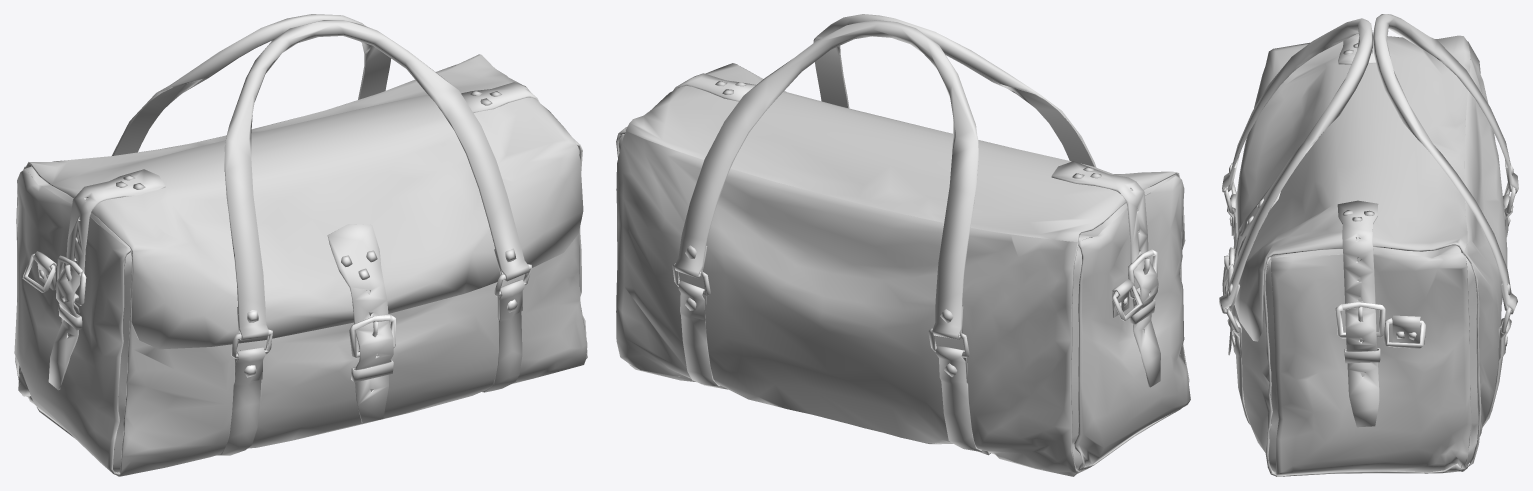
File: bigBag.fbx
3 views of the same model, side by side, from view 1: azimuth 30°, elevation 25°; view 2: azimuth 150°, elevation 25°; view 3: azimuth 270°, elevation 25° (orthographic). The views are drawn at different scales.
Visible parts, largest first — view 1: Suitecase3; view 2: Suitecase3; view 3: Suitecase3.
Boxes of the visible parts, x1,y1,x2,y2 form: Suitecase3: (14,14,587,476); Suitecase3: (616,14,1190,476); Suitecase3: (1219,14,1518,476).
Bounding box in the file's own units: 94.01 × 65.29 × 51.16.
